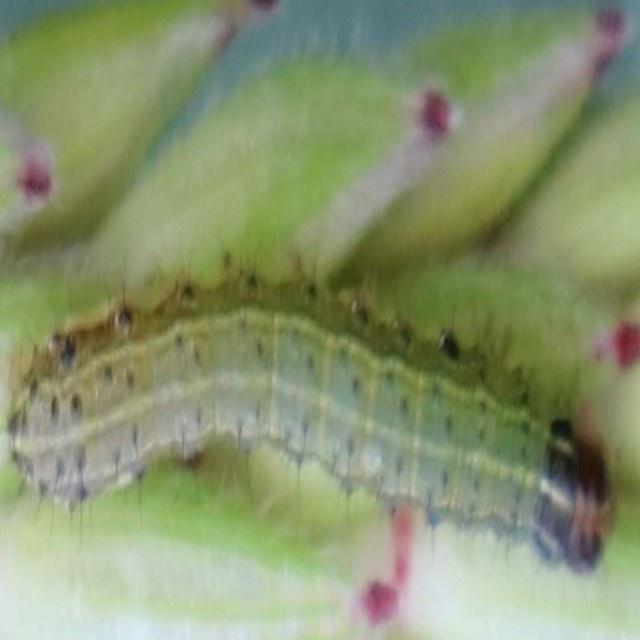gusano_cogollero: (0, 242, 621, 582)
